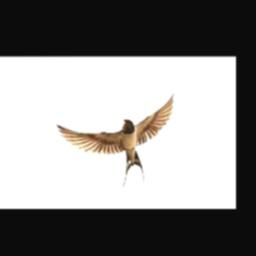Swallow: (57, 92, 175, 189)
